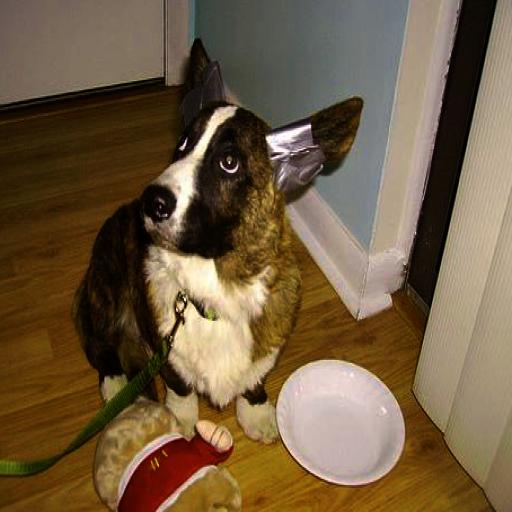dog_face: (149, 45, 354, 252)
